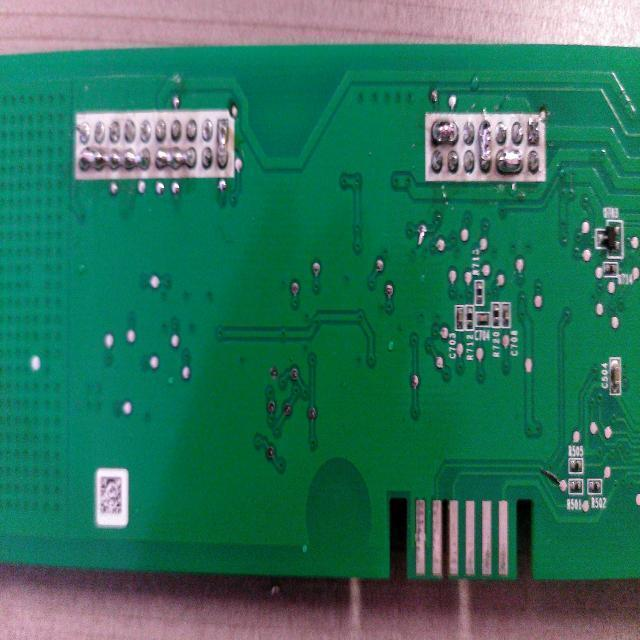Soldering shorted: (78, 145, 152, 175), (154, 143, 198, 173), (494, 146, 528, 182), (476, 116, 493, 178), (429, 118, 462, 148), (216, 117, 228, 172)
